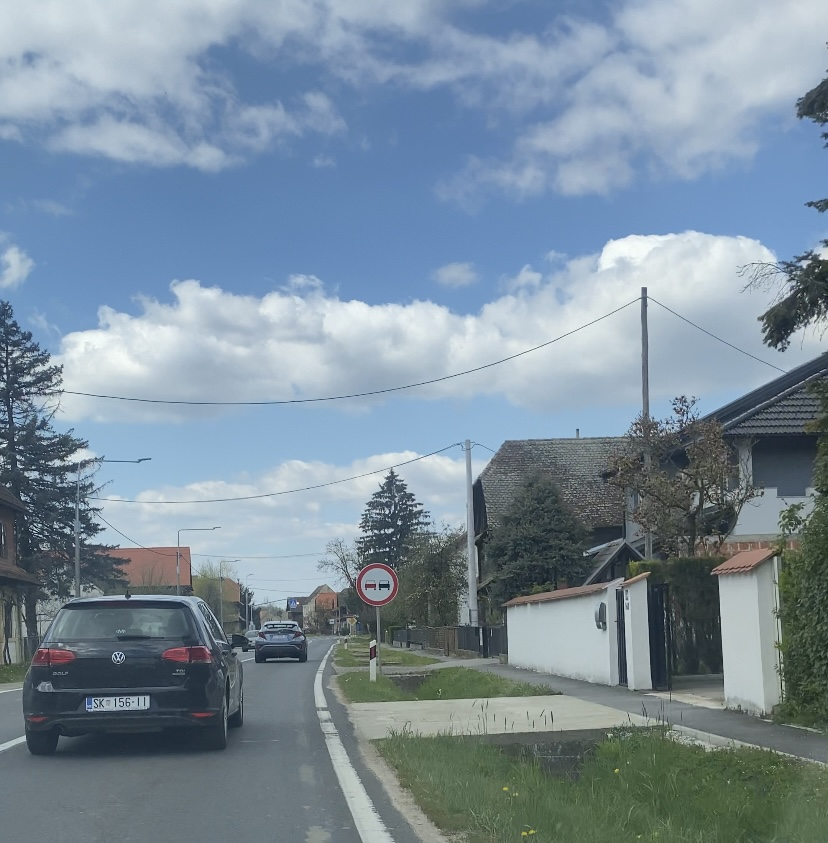Zabrana pretjecanja: (355, 563, 399, 606)
